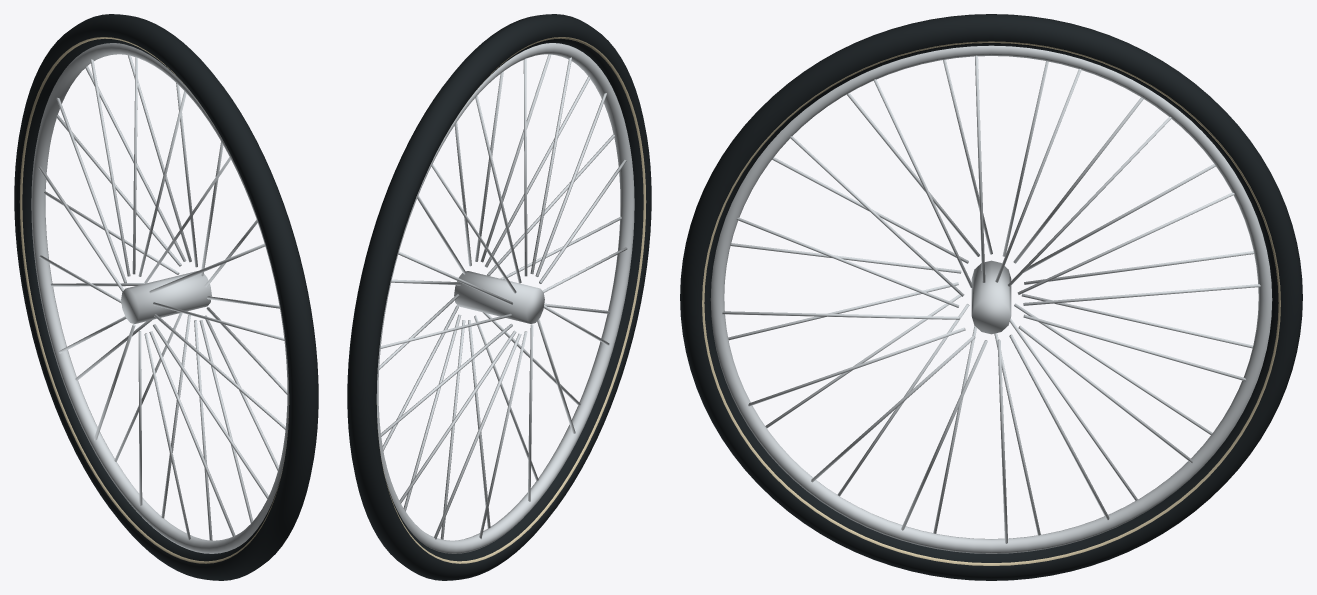
Rendered from Wheel.fbx.
3 renders of one model, left to right at view 1: azimuth 30°, elevation 25°; view 2: azimuth 150°, elevation 25°; view 3: azimuth 270°, elevation 25°, orthographic. The views are drawn at different scales.
Visible parts, largest first — view 1: Wheel; view 2: Wheel; view 3: Wheel.
Boxes of the visible parts, left/top/right/bottom form: Wheel: left=14, top=14, right=318, bottom=580; Wheel: left=347, top=14, right=651, bottom=580; Wheel: left=680, top=14, right=1302, bottom=580.
Bounding box in the file's own units: 15 × 104 × 104.
